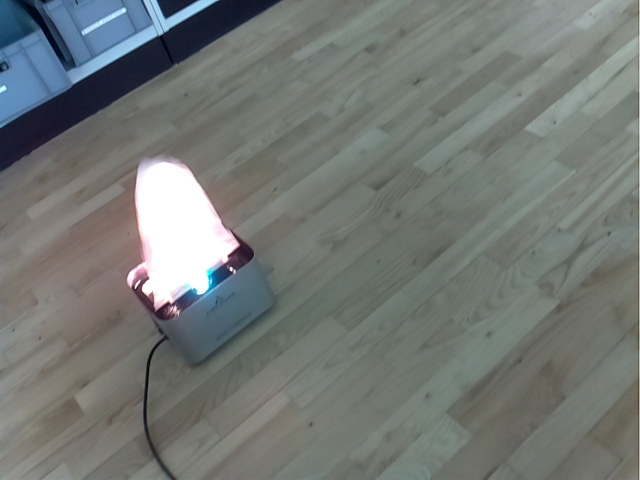fire: (133, 159, 239, 311)
